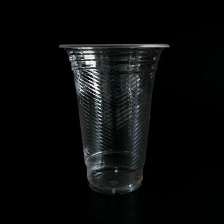glass: (53, 36, 174, 202)
